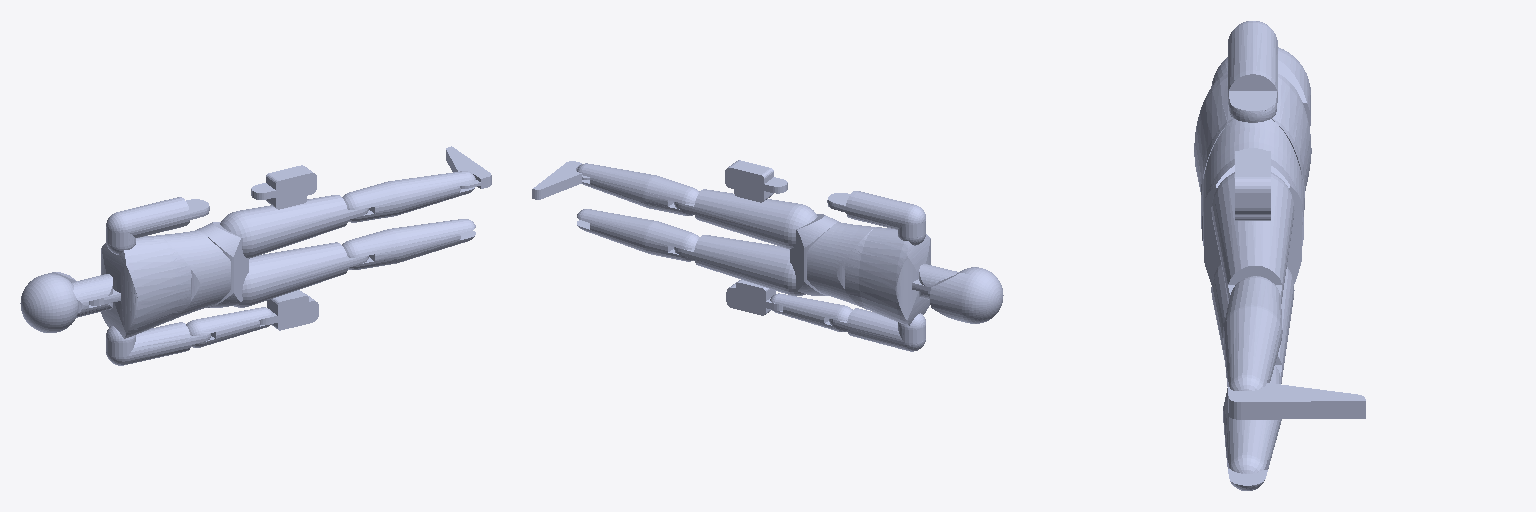
The robot description file, URDF, robot "green_kevin":
<?xml version="1.0"?>
<robot
  name="green_kevin">
  <link
    name="green_kevin/neck_base_link">
  </link>
  <link
    name="green_kevin/neck_twist_link">
  </link>
  <joint
    name="green_kevin/neck_twist_joint"
    type="revolute">
    <origin
      xyz="0.0 0.0 0"
      rpy="0. 0. 0." />
    <parent
      link="green_kevin/neck_base_link" />
    <child
      link="green_kevin/neck_twist_link" />
    <axis
      xyz="1 0 0" />
    <limit
      lower="-2"
      upper="2"
      effort="0"
      velocity="0" />
  </joint>
  <link
    name="green_kevin/neck_tilt_link">
  </link>
  <joint
    name="green_kevin/neck_tilt_joint"
    type="revolute">
    <origin
      xyz="0.0 0.0 0"
      rpy="0. 0. 0." />
    <parent
      link="green_kevin/neck_twist_link" />
    <child
      link="green_kevin/neck_tilt_link" />
    <axis
      xyz="0 0 -1" />
    <limit
      lower="-2"
      upper="2"
      effort="0"
      velocity="0" />
  </joint>
  <link
    name="green_kevin/neck_link">
    <visual>
      <origin
        xyz="0 0 0"
        rpy="0 0 0" />
      <geometry>
        <mesh
          filename="package://hrl_base_selection/urdf/green_kevin/meshes/neck_link.STL" />
      </geometry>
      <material
        name="">
        <color
          rgba="0.792156862745098 0.819607843137255 0.933333333333333 1" />
      </material>
    </visual>
    <collision>
      <origin
        xyz="0 0 0"
        rpy="0 0 0" />
      <geometry>
        <mesh
          filename="package://hrl_base_selection/urdf/green_kevin/meshes/neck_link.STL" />
      </geometry>
    </collision>
  </link>
  <joint
    name="green_kevin/neck_to_neck_top_joint"
    type="fixed">
    <origin
      xyz="-0.07239 0 0"
      rpy="0 0 0" />
    <parent
      link="green_kevin/neck_tilt_link" />
    <child
      link="green_kevin/neck_link" />
  </joint>
  <link
    name="green_kevin/neck_top_rotated_link">
  </link>
  <joint
    name="green_kevin/neck_rotation_fixed_joint"
    type="fixed">
    <origin
      xyz="0 0 0"
      rpy="-1.570796 0 1.570796" />
    <parent
      link="green_kevin/neck_link" />
    <child
      link="green_kevin/neck_top_rotated_link" />
    <axis
      xyz="0 0 1" />
    <limit
      lower="-2"
      upper="2"
      effort="0"
      velocity="0" />
  </joint>
  <link
    name="green_kevin/head_roty_link">
  </link>
  <joint
    name="green_kevin/neck_head_roty_joint"
    type="revolute">
    <origin
      xyz="0.0154 0 0.07779"
      rpy="0 0 0" />
    <parent
      link="green_kevin/neck_top_rotated_link" />
    <child
      link="green_kevin/head_roty_link" />
    <axis
      xyz="0 1 0" />
    <limit
      lower="-2"
      upper="2"
      effort="0"
      velocity="0" />
  </joint>
  <link
    name="green_kevin/head_rotz_link">
  </link>
  <joint
    name="green_kevin/neck_head_rotz_joint"
    type="revolute">
    <origin
      xyz="0 0 0"
      rpy="0 0 0" />
    <parent
      link="green_kevin/head_roty_link" />
    <child
      link="green_kevin/head_rotz_link" />
    <axis
      xyz="0 0 1" />
    <limit
      lower="-2"
      upper="2"
      effort="0"
      velocity="0" />
  </joint>

  <link
    name="green_kevin/head_link">
    <visual>
      <origin
        xyz="0 0 0"
        rpy="0 0 0" />
      <geometry>
        <mesh
          filename="package://hrl_base_selection/urdf/green_kevin/meshes/head_link.STL" />
      </geometry>
      <material
        name="">
        <color
          rgba="0.792156862745098 0.819607843137255 0.933333333333333 1" />
      </material>
    </visual>
    <collision>
      <origin
        xyz="0 0 0"
        rpy="0 0 0" />
      <geometry>
        <mesh
          filename="package://hrl_base_selection/urdf/green_kevin/meshes/head_link.STL" />
      </geometry>
    </collision>
  </link>
  <joint
    name="green_kevin/neck_head_rotx_joint"
    type="revolute">
    <origin
      xyz="0 0 0"
      rpy="0 0 0" />
    <parent
      link="green_kevin/head_rotz_link" />
    <child
      link="green_kevin/head_link" />
    <axis
      xyz="1 0 0" />
    <limit
      lower="-2"
      upper="2"
      effort="0"
      velocity="0" />
  </joint>
  <link
    name="green_kevin/upper_body_link">
    <visual>
      <origin
        xyz="0 0 0"
        rpy="0 0 0" />
      <geometry>
        <mesh
          filename="package://hrl_base_selection/urdf/green_kevin/meshes/upper_body_link.STL" />
      </geometry>
      <material
        name="">
        <color
          rgba="0.792156862745098 0.819607843137255 0.933333333333333 1" />
      </material>
    </visual>
    <collision>
      <origin
        xyz="0 0 0"
        rpy="0 0 0" />
      <geometry>
        <mesh
          filename="package://hrl_base_selection/urdf/green_kevin/meshes/upper_body_link.STL" />
      </geometry>
    </collision>
  </link>
  <joint
    name="green_kevin/neck_body_joint"
    type="revolute">
    <origin
      xyz="0.00 0 0"
      rpy="0 0 0" />
    <parent
      link="green_kevin/neck_base_link" />
    <child
      link="green_kevin/upper_body_link" />
    <axis
      xyz="0 0 -1" />
    <limit
      lower="-2"
      upper="2"
      effort="0"
      velocity="0" />
  </joint>
  <link
    name="green_kevin/mid_body_link">
    <visual>
      <origin
        xyz="0 0 0"
        rpy="0 0 0" />
      <geometry>
        <mesh
          filename="package://hrl_base_selection/urdf/green_kevin/meshes/mid_body_link.STL" />
      </geometry>
      <material
        name="">
        <color
          rgba="0.792156862745098 0.819607843137255 0.933333333333333 1" />
      </material>
    </visual>
    <collision>
      <origin
        xyz="0 0 0"
        rpy="0 0 0" />
      <geometry>
        <mesh
          filename="package://hrl_base_selection/urdf/green_kevin/meshes/mid_body_link.STL" />
      </geometry>
    </collision>
  </link>
  <joint
    name="green_kevin/upper_mid_body_joint"
    type="revolute">
    <origin
      xyz="0.35052 0 0"
      rpy="0 0 0" />
    <parent
      link="green_kevin/upper_body_link" />
    <child
      link="green_kevin/mid_body_link" />
    <axis
      xyz="0 0 1" />
    <limit
      lower="-2"
      upper="2"
      effort="0"
      velocity="0" />
  </joint>
  <link
    name="green_kevin/lower_body_link">
    <visual>
      <origin
        xyz="0 0 0"
        rpy="0 0 0" />
      <geometry>
        <mesh
          filename="package://hrl_base_selection/urdf/green_kevin/meshes/lower_body_link.STL" />
      </geometry>
      <material
        name="">
        <color
          rgba="0.792156862745098 0.819607843137255 0.933333333333333 1" />
      </material>
    </visual>
    <collision>
      <origin
        xyz="0 0 0"
        rpy="0 0 0" />
      <geometry>
        <mesh
          filename="package://hrl_base_selection/urdf/green_kevin/meshes/lower_body_link.STL" />
      </geometry>
    </collision>
  </link>
  <joint
    name="green_kevin/mid_lower_body_joint"
    type="revolute">
    <origin
      xyz="0.15113 0 0"
      rpy="0 0 0" />
    <parent
      link="green_kevin/mid_body_link" />
    <child
      link="green_kevin/lower_body_link" />
    <axis
      xyz="0 0 1" />
    <limit
      lower="-2"
      upper="2"
      effort="0"
      velocity="0" />
  </joint>
  <link
    name="green_kevin/quad_left_link">
    <visual>
      <origin
        xyz="0 0 0"
        rpy="0 0 0" />
      <geometry>
        <mesh
          filename="package://hrl_base_selection/urdf/green_kevin/meshes/quad_left_link.STL" />
      </geometry>
      <material
        name="">
        <color
          rgba="0.792156862745098 0.819607843137255 0.933333333333333 1" />
      </material>
    </visual>
    <collision>
      <origin
        xyz="0 0 0"
        rpy="0 0 0" />
      <geometry>
        <mesh
          filename="package://hrl_base_selection/urdf/green_kevin/meshes/quad_left_link.STL" />
      </geometry>
    </collision>
  </link>
  <joint
    name="green_kevin/body_quad_left_joint"
    type="revolute">
    <origin
      xyz="0.05207 0 -0.08636"
      rpy="0 0 -.25" />
    <parent
      link="green_kevin/lower_body_link" />
    <child
      link="green_kevin/quad_left_link" />
    <axis
      xyz="0 0 1" />
    <limit
      lower="-3."
      upper="3."
      effort="0"
      velocity="0" />
  </joint>
  <link
    name="green_kevin/calf_left_link">
    <visual>
      <origin
        xyz="0 0 0"
        rpy="0 0 0" />
      <geometry>
        <mesh
          filename="package://hrl_base_selection/urdf/green_kevin/meshes/calf_left_link.STL" />
      </geometry>
      <material
        name="">
        <color
          rgba="0.792156862745098 0.819607843137255 0.933333333333333 1" />
      </material>
    </visual>
    <collision>
      <origin
        xyz="0 0 0"
        rpy="0 0 0" />
      <geometry>
        <mesh
          filename="package://hrl_base_selection/urdf/green_kevin/meshes/calf_left_link.STL" />
      </geometry>
    </collision>
  </link>
  <joint
    name="green_kevin/quad_calf_left_joint"
    type="revolute">
    <origin
      xyz="0.41218 0.11044 0"
      rpy="3.14159 0 3.43" />
    <parent
      link="green_kevin/quad_left_link" />
    <child
      link="green_kevin/calf_left_link" />
    <axis
      xyz="0 0 1" />
    <limit
      lower="-3."
      upper="3."
      effort="0"
      velocity="0" />
  </joint>
  <link
    name="green_kevin/foot_left_link">
    <visual>
      <origin
        xyz="0 0 0"
        rpy="0 0 0" />
      <geometry>
        <mesh
          filename="package://hrl_base_selection/urdf/green_kevin/meshes/foot_left_link.STL" />
      </geometry>
      <material
        name="">
        <color
          rgba="0.792156862745098 0.819607843137255 0.933333333333333 1" />
      </material>
    </visual>
    <collision>
      <origin
        xyz="0 0 0"
        rpy="0 0 0" />
      <geometry>
        <mesh
          filename="package://hrl_base_selection/urdf/green_kevin/meshes/foot_left_link.STL" />
      </geometry>
    </collision>
  </link>
  <joint
    name="green_kevin/calf_foot_left_joint"
    type="revolute">
    <origin
      xyz="-0.41279 -0.03188 0"
      rpy="0 0 0.09" />
    <parent
      link="green_kevin/calf_left_link" />
    <child
      link="green_kevin/foot_left_link" />
    <axis
      xyz="0 0 1" />
    <limit
      lower="-3."
      upper="3."
      effort="0"
      velocity="0" />
  </joint>
  <link
    name="green_kevin/quad_right_link">
    <visual>
      <origin
        xyz="0 0 0"
        rpy="0 0 0" />
      <geometry>
        <mesh
          filename="package://hrl_base_selection/urdf/green_kevin/meshes/quad_right_link.STL" />
      </geometry>
      <material
        name="">
        <color
          rgba="0.792156862745098 0.819607843137255 0.933333333333333 1" />
      </material>
    </visual>
    <collision>
      <origin
        xyz="0 0 0"
        rpy="0 0 0" />
      <geometry>
        <mesh
          filename="package://hrl_base_selection/urdf/green_kevin/meshes/quad_right_link.STL" />
      </geometry>
    </collision>
  </link>
  <joint
    name="green_kevin/body_quad_right_joint"
    type="revolute">
    <origin
      xyz="0.05207 0 0.08636"
      rpy="0 0 -.25" />
    <parent
      link="green_kevin/lower_body_link" />
    <child
      link="green_kevin/quad_right_link" />
    <axis
      xyz="0 0 1" />
    <limit
      lower="-3"
      upper="3"
      effort="0"
      velocity="0" />
  </joint>
  <link
    name="green_kevin/calf_right_link">
    <visual>
      <origin
        xyz="0 0 0"
        rpy="0 0 0" />
      <geometry>
        <mesh
          filename="package://hrl_base_selection/urdf/green_kevin/meshes/calf_right_link.STL" />
      </geometry>
      <material
        name="">
        <color
          rgba="0.792156862745098 0.819607843137255 0.933333333333333 1" />
      </material>
    </visual>
    <collision>
      <origin
        xyz="0 0 0"
        rpy="0 0 0" />
      <geometry>
        <mesh
          filename="package://hrl_base_selection/urdf/green_kevin/meshes/calf_right_link.STL" />
      </geometry>
    </collision>
  </link>
  <joint
    name="green_kevin/quad_calf_right_joint"
    type="revolute">
    <origin
      xyz="0.41218 0.11044 0"
      rpy="3.14159 0 3.43" />
    <parent
      link="green_kevin/quad_right_link" />
    <child
      link="green_kevin/calf_right_link" />
    <axis
      xyz="0 0 1" />
    <limit
      lower="-3"
      upper="3"
      effort="0"
      velocity="0" />
  </joint>
  <link
    name="green_kevin/foot_right_link">
    <visual>
      <origin
        xyz="0 0 0"
        rpy="0 0 0" />
      <geometry>
        <mesh
          filename="package://hrl_base_selection/urdf/green_kevin/meshes/foot_right_link.STL" />
      </geometry>
      <material
        name="">
        <color
          rgba="0.792156862745098 0.819607843137255 0.933333333333333 1" />
      </material>
    </visual>
    <collision>
      <origin
        xyz="0 0 0"
        rpy="0 0 0" />
      <geometry>
        <mesh
          filename="package://hrl_base_selection/urdf/green_kevin/meshes/foot_right_link.STL" />
      </geometry>
    </collision>
  </link>
  <joint
    name="green_kevin/calf_foot_right_joint"
    type="revolute">
    <origin
      xyz="-0.41279 -0.03188 0"
      rpy="0 0 0.09" />
    <parent
      link="green_kevin/calf_right_link" />
    <child
      link="green_kevin/foot_right_link" />
    <axis
      xyz="0 0 1" />
    <limit
      lower="-3"
      upper="3"
      effort="0"
      velocity="0" />
  </joint>
  <joint
    name="green_kevin/body_arm_left_base_joint"
    type="fixed">
    <origin
      xyz="0.09652 0 -0.17526"
      rpy="0 0 0" />
    <parent
      link="green_kevin/upper_body_link" />
    <child
      link="green_kevin/arm_left_base_link" />
  </joint>
  <link
    name="green_kevin/arm_left_base_link">
  </link>
  <joint
    name="green_kevin/body_arm_left_rotx_joint"
    type="revolute">
    <origin
      xyz="0 0 0"
      rpy="0 0 0" />
    <parent
      link="green_kevin/arm_left_base_link" />
    <child
      link="green_kevin/arm_left_rotx_link" />
    <axis
      xyz="1 0 0" />
    <limit
      lower="-3"
      upper="3"
      effort="0"
      velocity="0" />
  </joint>
  <link
    name="green_kevin/arm_left_rotx_link">
  </link>
  <joint
    name="green_kevin/body_arm_left_rotz_joint"
    type="revolute">
    <origin
      xyz="0 0 0"
      rpy="0 0 0" />
    <parent
      link="green_kevin/arm_left_rotx_link" />
    <child
      link="green_kevin/arm_left_rotz_link" />
    <axis
      xyz="0 0 1" />
    <limit
      lower="-3"
      upper="3"
      effort="0"
      velocity="0" />
  </joint>
  <link
    name="green_kevin/arm_left_rotz_link">
  </link>
  <joint
    name="green_kevin/body_arm_left_roty_joint"
    type="revolute">
    <origin
      xyz="0 0 0"
      rpy="0 0 0" />
    <parent
      link="green_kevin/arm_left_rotz_link" />
    <child
      link="green_kevin/arm_left_link" />
    <axis
      xyz="0 1 0" />
    <limit
      lower="-3"
      upper="3"
      effort="0"
      velocity="0" />
  </joint>
  <link
    name="green_kevin/arm_left_link">
    <visual>
      <origin
        xyz="0 0 0"
        rpy="0 0 0" />
      <geometry>
        <mesh
          filename="package://hrl_base_selection/urdf/green_kevin/meshes/arm_left_link.STL" />
      </geometry>
      <material
        name="">
        <color
          rgba="0.792156862745098 0.819607843137255 0.933333333333333 1" />
      </material>
    </visual>
    <collision>
      <origin
        xyz="0 0 0"
        rpy="0 0 0" />
      <geometry>
        <mesh
          filename="package://hrl_base_selection/urdf/green_kevin/meshes/arm_left_link.STL" />
      </geometry>
    </collision>
  </link>
  <link
    name="green_kevin/forearm_left_link">
    <visual>
      <origin
        xyz="0 0 0"
        rpy="0 0 0" />
      <geometry>
        <mesh
          filename="package://hrl_base_selection/urdf/green_kevin/meshes/forearm_left_link.STL" />
      </geometry>
      <material
        name="">
        <color
          rgba="0.792156862745098 0.819607843137255 0.933333333333333 1" />
      </material>
    </visual>
    <collision>
      <origin
        xyz="0 0 0"
        rpy="0 0 0" />
      <geometry>
        <mesh
          filename="package://hrl_base_selection/urdf/green_kevin/meshes/forearm_left_link.STL" />
      </geometry>
    </collision>
  </link>
  <joint
    name="green_kevin/arm_forearm_left_joint"
    type="revolute">
    <origin
      xyz="0.28174 -0.0106 -0.04953"
      rpy="0 0 0" />
    <parent
      link="green_kevin/arm_left_link" />
    <child
      link="green_kevin/forearm_left_link" />
    <axis
      xyz="0 0 1" />
    <limit
      lower="-3"
      upper="3"
      effort="0"
      velocity="0" />
  </joint>
  <joint
    name="green_kevin/forearm_hand_left_rotx_joint"
    type="revolute">
    <origin
      xyz="0.25146 0 0"
      rpy="0 0 0" />
    <parent
      link="green_kevin/forearm_left_link" />
    <child
      link="green_kevin/hand_left_rotx_link" />
    <axis
      xyz="-1 0 0" />
    <limit
      lower="-3"
      upper="3"
      effort="0"
      velocity="0" />
  </joint>
  <link
    name="green_kevin/hand_left_rotx_link">
  </link>
  <joint
    name="green_kevin/forearm_hand_left_roty_joint"
    type="revolute">
    <origin
      xyz="0 0 0"
      rpy="0 0 0" />
    <parent
      link="green_kevin/hand_left_rotx_link" />
    <child
      link="green_kevin/hand_left_roty_link" />
    <axis
      xyz="0 1 0" />
    <limit
      lower="-3"
      upper="3"
      effort="0"
      velocity="0" />
  </joint>
  <link
    name="green_kevin/hand_left_roty_link">
  </link>
  <joint
    name="green_kevin/forearm_hand_left_rotz_joint"
    type="revolute">
    <origin
      xyz="0 0 0"
      rpy="0 0 0" />
    <parent
      link="green_kevin/hand_left_roty_link" />
    <child
      link="green_kevin/hand_left_link" />
    <axis
      xyz="0 0 1" />
    <limit
      lower="-3"
      upper="3"
      effort="0"
      velocity="0" />
  </joint>
  <link
    name="green_kevin/hand_left_link">
    <visual>
      <origin
        xyz="0 0 0"
        rpy="0 0 0" />
      <geometry>
        <mesh
          filename="package://hrl_base_selection/urdf/green_kevin/meshes/hand_left_link.STL" />
      </geometry>
      <material
        name="">
        <color
          rgba="0.792156862745098 0.819607843137255 0.933333333333333 1" />
      </material>
    </visual>
    <collision>
      <origin
        xyz="0 0 0"
        rpy="0 0 0" />
      <geometry>
        <mesh
          filename="package://hrl_base_selection/urdf/green_kevin/meshes/hand_left_link.STL" />
      </geometry>
    </collision>
  </link>
  <joint
    name="green_kevin/body_arm_right_base_joint"
    type="fixed">
    <origin
      xyz="0.09652 0 0.17526"
      rpy="0 0 0" />
    <parent
      link="green_kevin/upper_body_link" />
    <child
      link="green_kevin/arm_right_base_link" />
  </joint>
  <link
    name="green_kevin/arm_right_base_link">
  </link>
  <joint
    name="green_kevin/body_arm_right_rotx_joint"
    type="revolute">
    <origin
      xyz="0 0 0"
      rpy="0 0 0" />
    <parent
      link="green_kevin/arm_right_base_link" />
    <child
      link="green_kevin/arm_right_rotx_link" />
    <axis
      xyz="-1 0 0" />
    <limit
      lower="-3"
      upper="3"
      effort="0"
      velocity="0" />
  </joint>
  <link
    name="green_kevin/arm_right_rotx_link">
  </link>
  <joint
    name="green_kevin/body_arm_right_rotz_joint"
    type="revolute">
    <origin
      xyz="0 0 0"
      rpy="0 0 0" />
    <parent
      link="green_kevin/arm_right_rotx_link" />
    <child
      link="green_kevin/arm_right_rotz_link" />
    <axis
      xyz="0 0 1" />
    <limit
      lower="-3"
      upper="3"
      effort="0"
      velocity="0" />
  </joint>
  <link
    name="green_kevin/arm_right_rotz_link">
  </link>
  <joint
    name="green_kevin/body_arm_right_roty_joint"
    type="revolute">
    <origin
      xyz="0 0 0"
      rpy="0 0 0" />
    <parent
      link="green_kevin/arm_right_rotz_link" />
    <child
      link="green_kevin/arm_right_link" />
    <axis
      xyz="0 -1 0" />
    <limit
      lower="-3"
      upper="3"
      effort="0"
      velocity="0" />
  </joint>
  <link
    name="green_kevin/arm_right_link">
    <visual>
      <origin
        xyz="0 0 0"
        rpy="0 0 0" />
      <geometry>
        <mesh
          filename="package://hrl_base_selection/urdf/green_kevin/meshes/arm_right_link.STL" />
      </geometry>
      <material
        name="">
        <color
          rgba="0.792156862745098 0.819607843137255 0.933333333333333 1" />
      </material>
    </visual>
    <collision>
      <origin
        xyz="0 0 0"
        rpy="0 0 0" />
      <geometry>
        <mesh
          filename="package://hrl_base_selection/urdf/green_kevin/meshes/arm_right_link.STL" />
      </geometry>
    </collision>
  </link>
  <link
    name="green_kevin/forearm_right_link">
    <visual>
      <origin
        xyz="0 0 0"
        rpy="0 0 0" />
      <geometry>
        <mesh
          filename="package://hrl_base_selection/urdf/green_kevin/meshes/forearm_right_link.STL" />
      </geometry>
      <material
        name="">
        <color
          rgba="0.792156862745098 0.819607843137255 0.933333333333333 1" />
      </material>
    </visual>
    <collision>
      <origin
        xyz="0 0 0"
        rpy="0 0 0" />
      <geometry>
        <mesh
          filename="package://hrl_base_selection/urdf/green_kevin/meshes/forearm_right_link.STL" />
      </geometry>
    </collision>
  </link>
  <joint
    name="green_kevin/arm_forearm_right_joint"
    type="revolute">
    <origin
      xyz="0.28194 0 0.04953"
      rpy="0 0 0" />
    <parent
      link="green_kevin/arm_right_link" />
    <child
      link="green_kevin/forearm_right_link" />
    <axis
      xyz="0 0 1" />
    <limit
      lower="-3"
      upper="3"
      effort="0"
      velocity="0" />
  </joint>
  <joint
    name="green_kevin/forearm_hand_right_rotx_joint"
    type="revolute">
    <origin
      xyz="0.25146 0 0"
      rpy="0 0 0" />
    <parent
      link="green_kevin/forearm_right_link" />
    <child
      link="green_kevin/hand_right_rotx_link" />
    <axis
      xyz="1 0 0" />
    <limit
      lower="-3"
      upper="3"
      effort="0"
      velocity="0" />
  </joint>
  <link
    name="green_kevin/hand_right_rotx_link">
  </link>
  <joint
    name="green_kevin/forearm_hand_right_roty_joint"
    type="revolute">
    <origin
      xyz="0 0 0"
      rpy="0 0 0" />
    <parent
      link="green_kevin/hand_right_rotx_link" />
    <child
      link="green_kevin/hand_right_roty_link" />
    <axis
      xyz="0 -1 0" />
    <limit
      lower="-3"
      upper="3"
      effort="0"
      velocity="0" />
  </joint>
  <link
    name="green_kevin/hand_right_roty_link">
  </link>
  <joint
    name="green_kevin/forearm_hand_right_rotz_joint"
    type="revolute">
    <origin
      xyz="0 0 0"
      rpy="0 0 0" />
    <parent
      link="green_kevin/hand_right_roty_link" />
    <child
      link="green_kevin/hand_right_link" />
    <axis
      xyz="0 0 1" />
    <limit
      lower="-3"
      upper="3"
      effort="0"
      velocity="0" />
  </joint>
  <link
    name="green_kevin/hand_right_link">
    <visual>
      <origin
        xyz="0 0 0"
        rpy="0 0 0" />
      <geometry>
        <mesh
          filename="package://hrl_base_selection/urdf/green_kevin/meshes/hand_right_link.STL" />
      </geometry>
      <material
        name="">
        <color
          rgba="0.792156862745098 0.819607843137255 0.933333333333333 1" />
      </material>
    </visual>
    <collision>
      <origin
        xyz="0 0 0"
        rpy="0 0 0" />
      <geometry>
        <mesh
          filename="package://hrl_base_selection/urdf/green_kevin/meshes/hand_right_link.STL" />
      </geometry>
    </collision>
  </link>
</robot>

--- What the picture shows (computed from the rendered views, not written in the file) ---
The picture shows the robot from 3 angles, left to right: view 1: azimuth 30°, elevation 25°; view 2: azimuth 150°, elevation 25°; view 3: azimuth 270°, elevation 25°; orthographic projection.
Robot: green_kevin — 33 links, 32 joints (28 revolute, 4 fixed); root link green_kevin/neck_base_link; default pose: every joint at zero.
Visible links, largest first — view 1: green_kevin/upper_body_link, green_kevin/quad_right_link, green_kevin/quad_left_link, green_kevin/calf_left_link, green_kevin/calf_right_link, green_kevin/arm_right_link, green_kevin/mid_body_link, green_kevin/head_link, green_kevin/arm_left_link, green_kevin/hand_right_link, green_kevin/forearm_left_link, green_kevin/lower_body_link (+3 smaller); view 2: green_kevin/upper_body_link, green_kevin/quad_right_link, green_kevin/quad_left_link, green_kevin/calf_left_link, green_kevin/calf_right_link, green_kevin/head_link, green_kevin/mid_body_link, green_kevin/arm_right_link, green_kevin/arm_left_link, green_kevin/hand_right_link, green_kevin/forearm_left_link, green_kevin/lower_body_link (+3 smaller); view 3: green_kevin/quad_right_link, green_kevin/calf_right_link, green_kevin/arm_right_link, green_kevin/upper_body_link, green_kevin/foot_right_link, green_kevin/mid_body_link, green_kevin/calf_left_link, green_kevin/hand_right_link, green_kevin/lower_body_link, green_kevin/quad_left_link, green_kevin/head_link.
Boxes of the visible links, bbox=[...] form: green_kevin/upper_body_link: bbox=[89, 235, 191, 338]; green_kevin/quad_right_link: bbox=[220, 195, 368, 258]; green_kevin/quad_left_link: bbox=[233, 242, 368, 307]; green_kevin/calf_left_link: bbox=[342, 219, 475, 269]; green_kevin/calf_right_link: bbox=[342, 171, 475, 222]; green_kevin/arm_right_link: bbox=[106, 197, 209, 254]; green_kevin/mid_body_link: bbox=[159, 230, 230, 318]; green_kevin/head_link: bbox=[20, 272, 77, 332]; green_kevin/arm_left_link: bbox=[106, 322, 210, 365]; green_kevin/hand_right_link: bbox=[251, 165, 316, 209]; green_kevin/forearm_left_link: bbox=[186, 307, 272, 347]; green_kevin/lower_body_link: bbox=[197, 222, 248, 307]; green_kevin/upper_body_link: bbox=[845, 227, 930, 325]; green_kevin/quad_right_link: bbox=[674, 189, 817, 249]; green_kevin/quad_left_link: bbox=[674, 235, 805, 295]; green_kevin/calf_left_link: bbox=[577, 209, 699, 261]; green_kevin/calf_right_link: bbox=[577, 163, 699, 215]; green_kevin/head_link: bbox=[930, 267, 1003, 323]; green_kevin/mid_body_link: bbox=[807, 222, 874, 306]; green_kevin/arm_right_link: bbox=[827, 191, 925, 245]; green_kevin/arm_left_link: bbox=[829, 308, 925, 351]; green_kevin/hand_right_link: bbox=[725, 160, 787, 202]; green_kevin/forearm_left_link: bbox=[770, 293, 852, 331]; green_kevin/lower_body_link: bbox=[790, 214, 838, 295]; green_kevin/quad_right_link: bbox=[1211, 172, 1294, 303]; green_kevin/calf_right_link: bbox=[1223, 276, 1282, 390]; green_kevin/arm_right_link: bbox=[1228, 21, 1277, 122]; green_kevin/upper_body_link: bbox=[1194, 73, 1311, 197]; green_kevin/foot_right_link: bbox=[1228, 383, 1365, 419]; green_kevin/mid_body_link: bbox=[1201, 119, 1304, 245]; green_kevin/calf_left_link: bbox=[1223, 366, 1281, 490]; green_kevin/hand_right_link: bbox=[1235, 148, 1270, 220]; green_kevin/lower_body_link: bbox=[1204, 159, 1301, 284]; green_kevin/quad_left_link: bbox=[1211, 264, 1294, 383]; green_kevin/head_link: bbox=[1211, 47, 1310, 126].
Bounding box of the posed robot: 1.74 × 0.3341 × 0.5486 m (x, y, z).
15 mesh visuals loaded from 17 distinct referenced files (15 binary STL); not drawn: 2 (reference not matched to a file when rendering).
